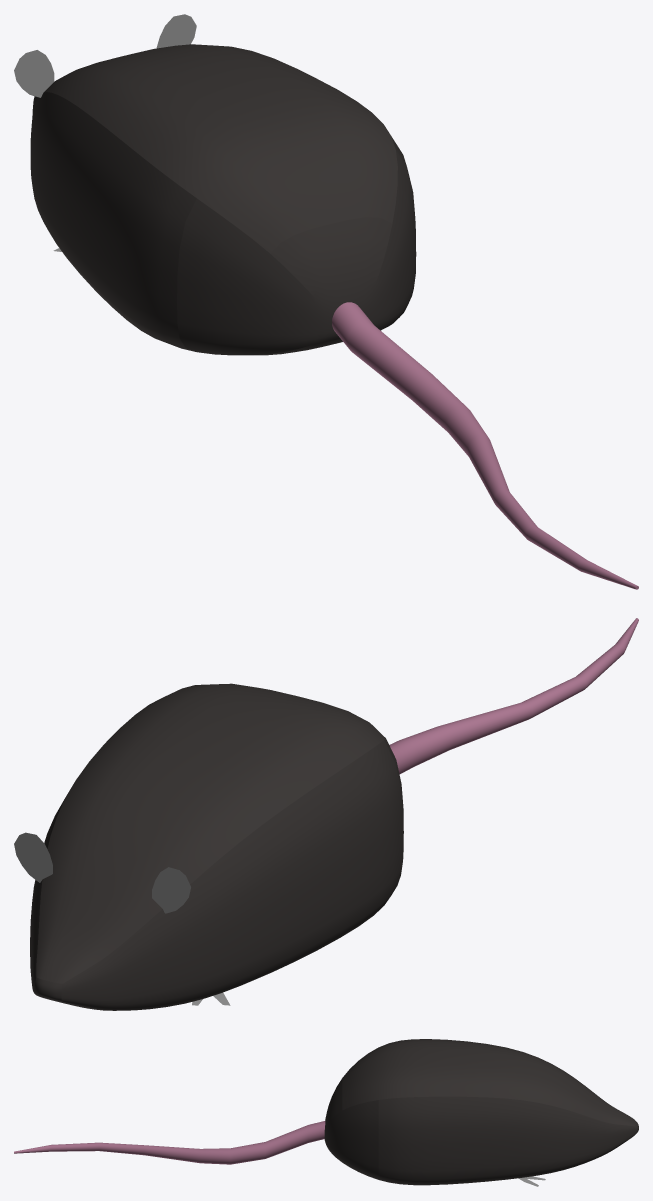
Rendered from ratte.fbx.
3 renders of one model, top to bottom at view 1: azimuth 30°, elevation 25°; view 2: azimuth 150°, elevation 25°; view 3: azimuth 270°, elevation 25°, orthographic. The views are drawn at different scales.
Visible parts, largest first — view 1: Cube.001; view 2: Cube.001; view 3: Cube.001.
Part boxes in pixels (<box>): Cube.001: <box>14,14,638,589</box>; Cube.001: <box>14,618,638,1010</box>; Cube.001: <box>14,1039,638,1186</box>.
Bounding box in the file's own units: 116 × 84.91 × 460.
